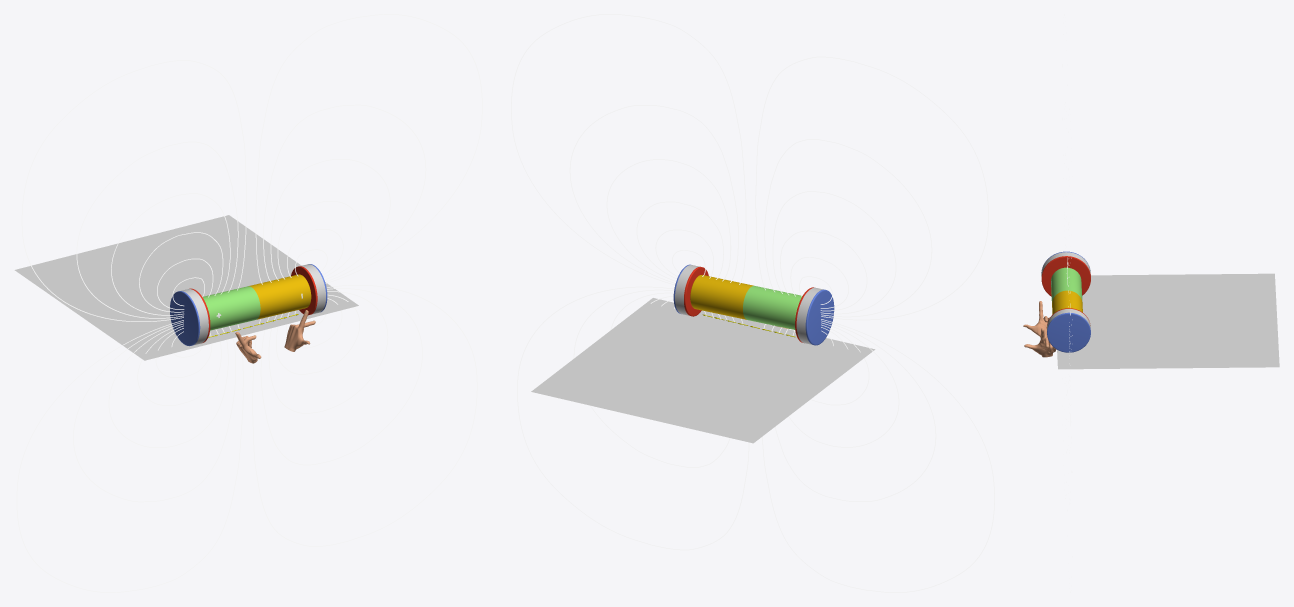
The model's file is asset.glb.
3 views of the same model, side by side, from view 1: azimuth 30°, elevation 25°; view 2: azimuth 150°, elevation 25°; view 3: azimuth 270°, elevation 25° (orthographic). The views are drawn at different scales.
Visible parts, largest first — view 1: Plane, pole, bateria, magnes bieguny.001; view 2: Plane, pole, bateria, magnes bieguny.001; view 3: Plane, magnes bieguny.001, bateria, hand5.
Boxes of the visible parts, x1=… form: Plane: x1=14, y1=215, x2=358, y2=360; pole: x1=16, y1=14, x2=482, y2=592; bateria: x1=203, y1=274, x2=311, y2=330; magnes bieguny.001: x1=170, y1=264, x2=327, y2=346; Plane: x1=531, y1=298, x2=875, y2=443; pole: x1=511, y1=14, x2=994, y2=592; bateria: x1=690, y1=275, x2=802, y2=329; magnes bieguny.001: x1=673, y1=264, x2=834, y2=345; Plane: x1=1057, y1=273, x2=1279, y2=369; magnes bieguny.001: x1=1041, y1=251, x2=1090, y2=352; bateria: x1=1051, y1=267, x2=1082, y2=314; hand5: x1=1024, y1=328, x2=1056, y2=357.
Bounding box in the file's own units: 11.02 × 11.73 × 5.87.
